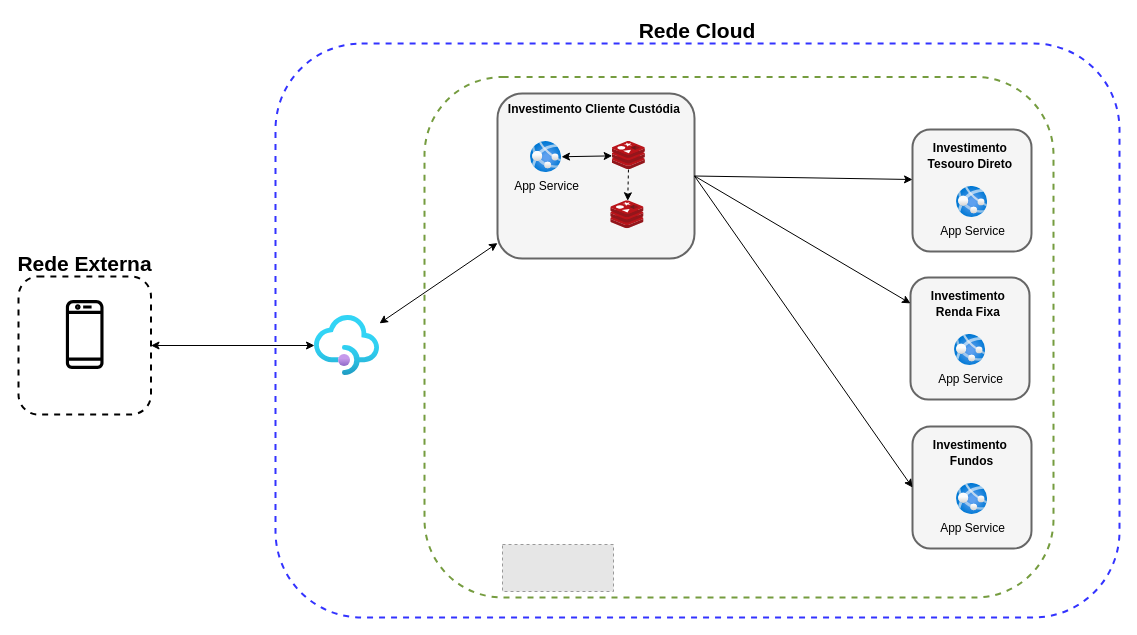
Image size: 1137x635. Some labels were removed from this diagram. Grey dashed boxes stand in for pictures. The centre of each missing label's shape, as x and y in pixels:
API management: [346,345]
Device: [84,334]
Master Redis: [628,155]
Slave Redis: [627,214]
